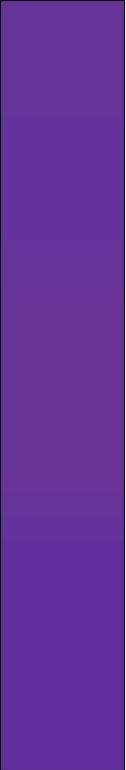safe: (9, 8, 111, 766)
